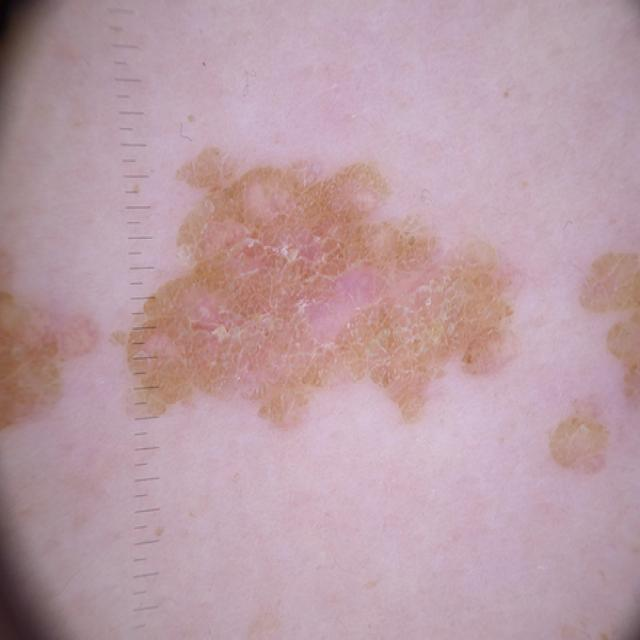Skin-Cancer Pigmented benign keratosis: (41, 28, 640, 639)
